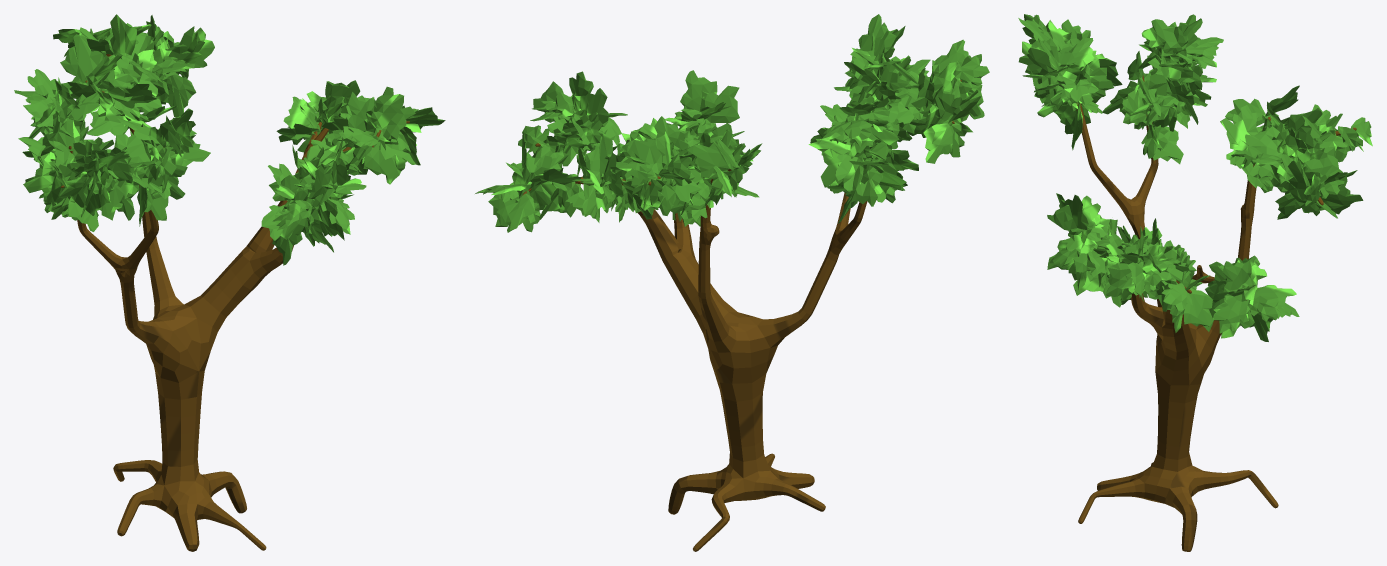
File: arbol4GFHFGHFGH.fbx
3 views of the same model, side by side, from view 1: azimuth 30°, elevation 25°; view 2: azimuth 150°, elevation 25°; view 3: azimuth 270°, elevation 25° (orthographic). The views are drawn at different scales.
Parts seen in each view (by area): view 1: Icosphere.025 - copy.003 - copy.002 - copy.105; view 2: Icosphere.025 - copy.003 - copy.002 - copy.105; view 3: Icosphere.025 - copy.003 - copy.002 - copy.105.
Part boxes in pixels (<box>): Icosphere.025 - copy.003 - copy.002 - copy.105: <box>14,14,445,551</box>; Icosphere.025 - copy.003 - copy.002 - copy.105: <box>475,14,989,551</box>; Icosphere.025 - copy.003 - copy.002 - copy.105: <box>1018,14,1372,551</box>.
Size of the model in its own units: 851 by 1087 by 1203.
